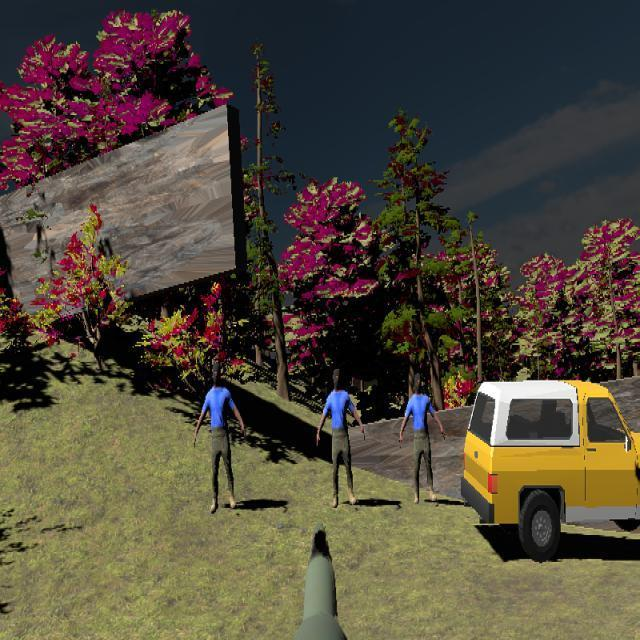Human: (194, 362, 245, 513), (316, 367, 365, 509), (399, 369, 445, 505)
car: (462, 379, 640, 562)
